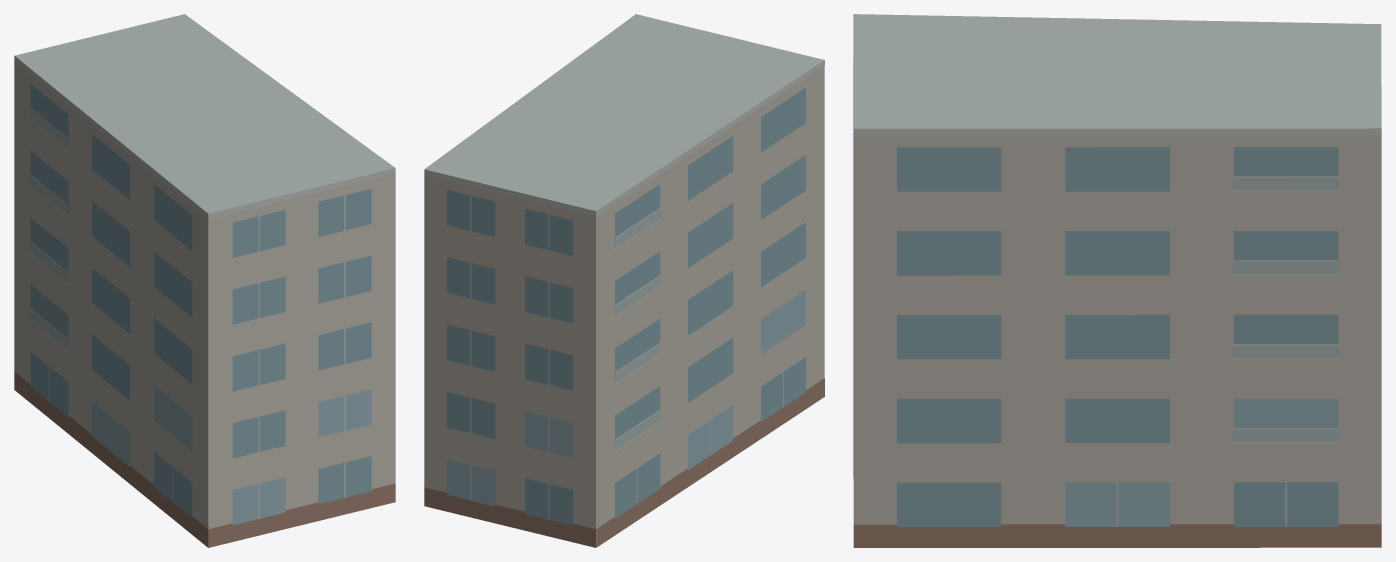
Rendered from survey-upis-32760623.glb.
The picture shows the model from 3 angles, left to right: view 1: azimuth 30°, elevation 25°; view 2: azimuth 150°, elevation 25°; view 3: azimuth 270°, elevation 25°; orthographic projection. The views are drawn at different scales.
Parts seen in each view (by area): view 1: survey-upis-32760623.tmp; view 2: survey-upis-32760623.tmp; view 3: survey-upis-32760623.tmp.
Boxes of the visible parts, x1,y1,x2,y2 form: survey-upis-32760623.tmp: (14,14,395,547); survey-upis-32760623.tmp: (424,14,824,547); survey-upis-32760623.tmp: (853,14,1381,547).
Bounding box in the file's own units: 8.42 × 14.3 × 16.35.
